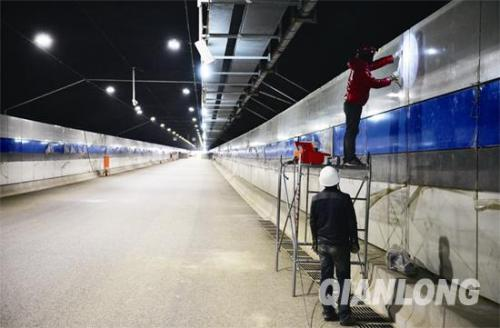boots: (338, 311, 357, 326), (322, 304, 338, 320), (343, 156, 366, 166)
gloves: (390, 69, 400, 81), (351, 241, 360, 253), (393, 48, 403, 58), (312, 239, 318, 252)
hard-hat: (319, 166, 340, 187), (358, 46, 375, 61)
person: (309, 165, 360, 326), (341, 42, 403, 167)
